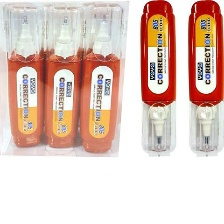correction_fluid: (77, 0, 124, 155), (41, 0, 86, 149), (2, 0, 46, 150), (136, 0, 177, 157), (185, 0, 224, 158)
plastic_box: (0, 0, 131, 159)
